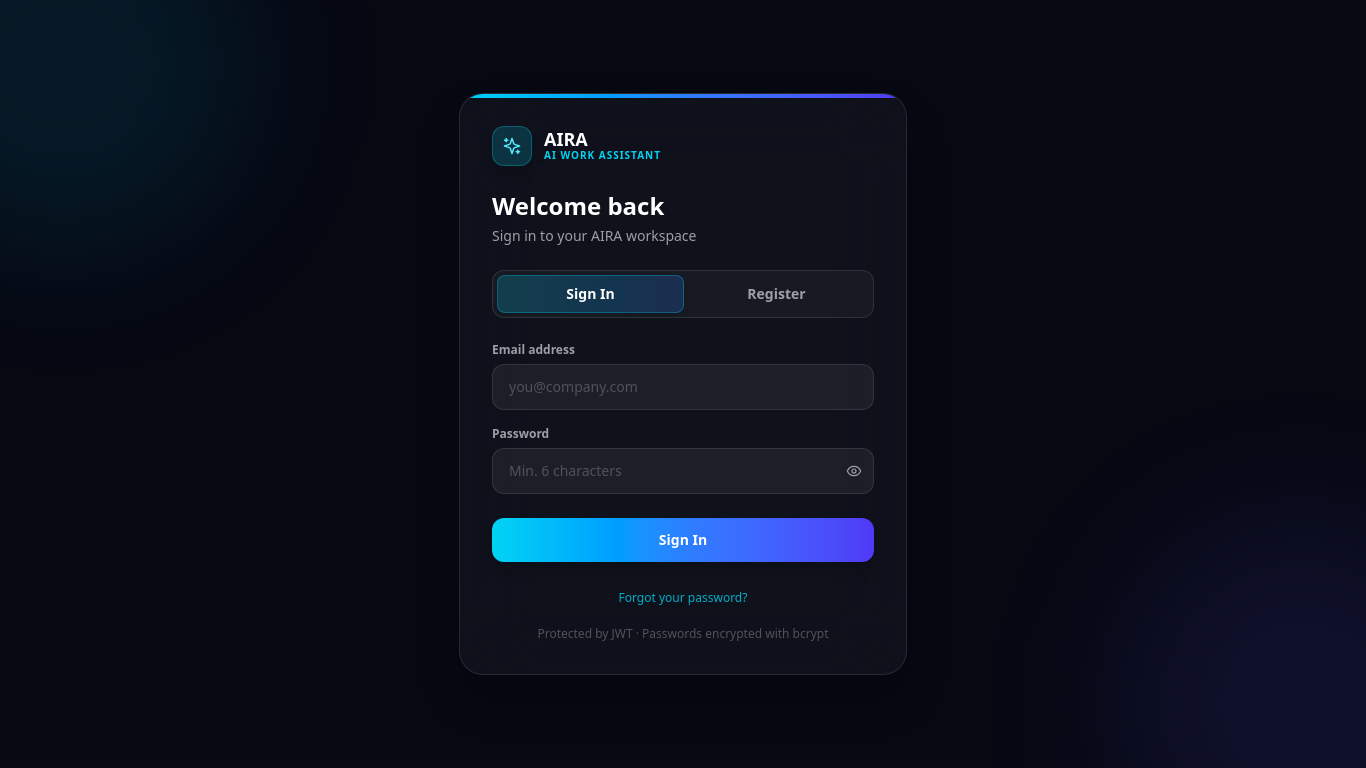
Test: Phase 6C — Email Verification Frontend Suite › LoginPage — Post Registration › displays 'Check your inbox' view after registration
Note: Switch to Register tab
Click the button "Register": (776, 294) [684,275,869,313]
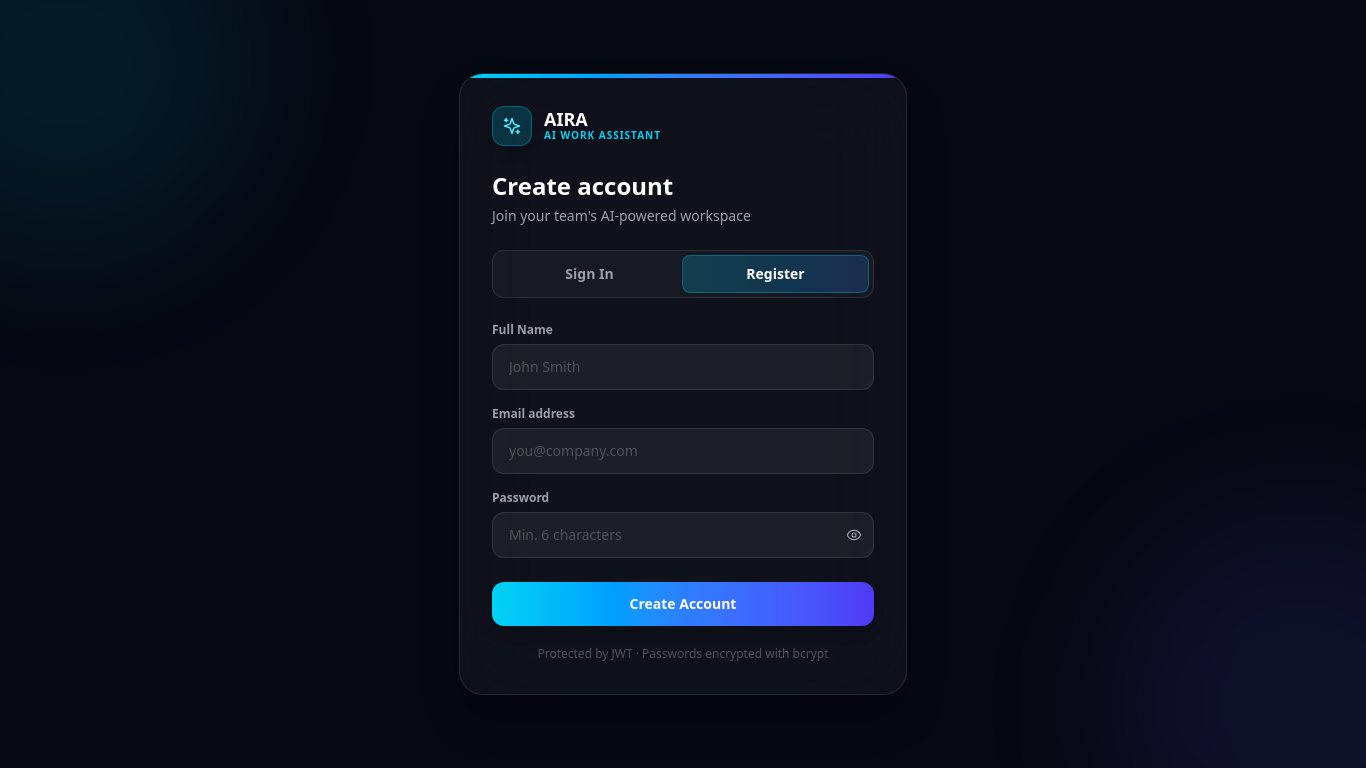
Note: Fill in details
In the field with placeholder "John Smith": (683, 367) [492,344,874,390], type "New User"
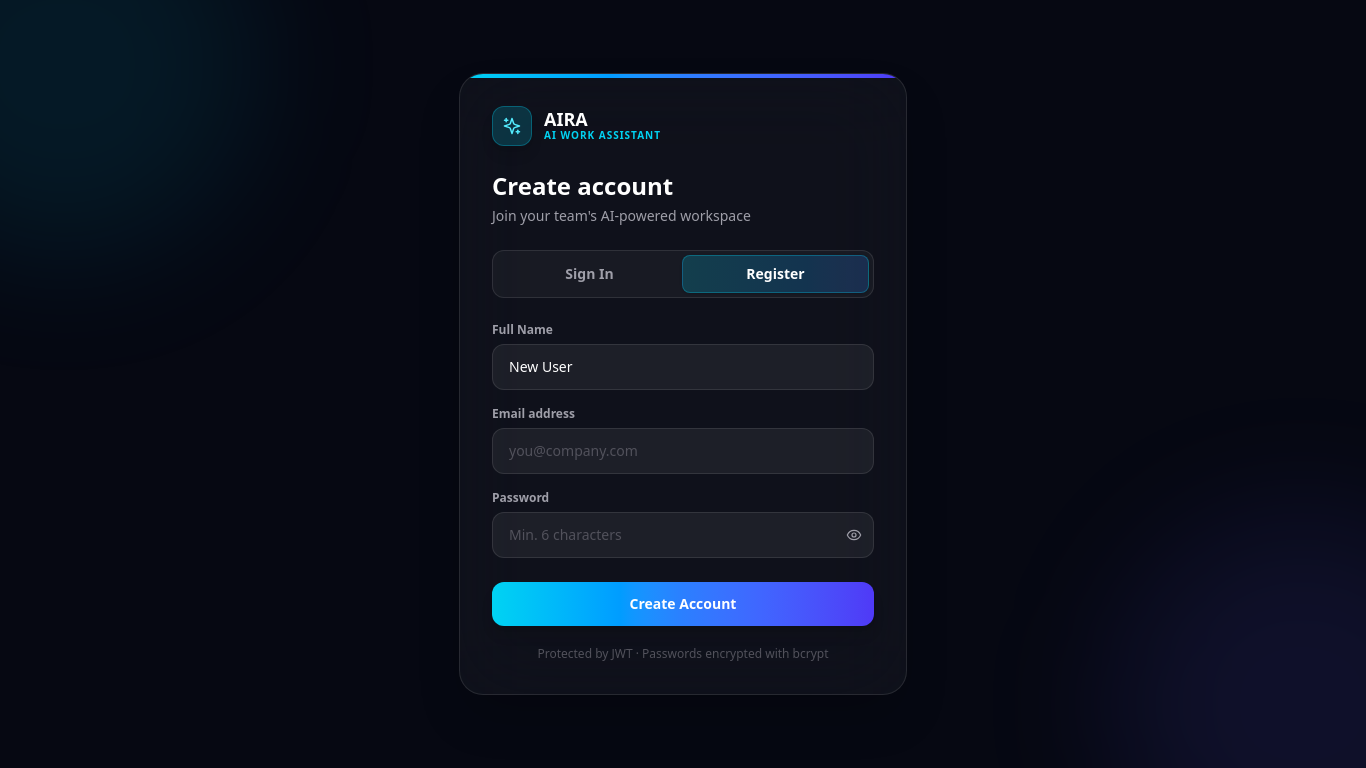
In the field with placeholder "you@company.com": (683, 451) [492,428,874,474], type "newreg@aira.io"
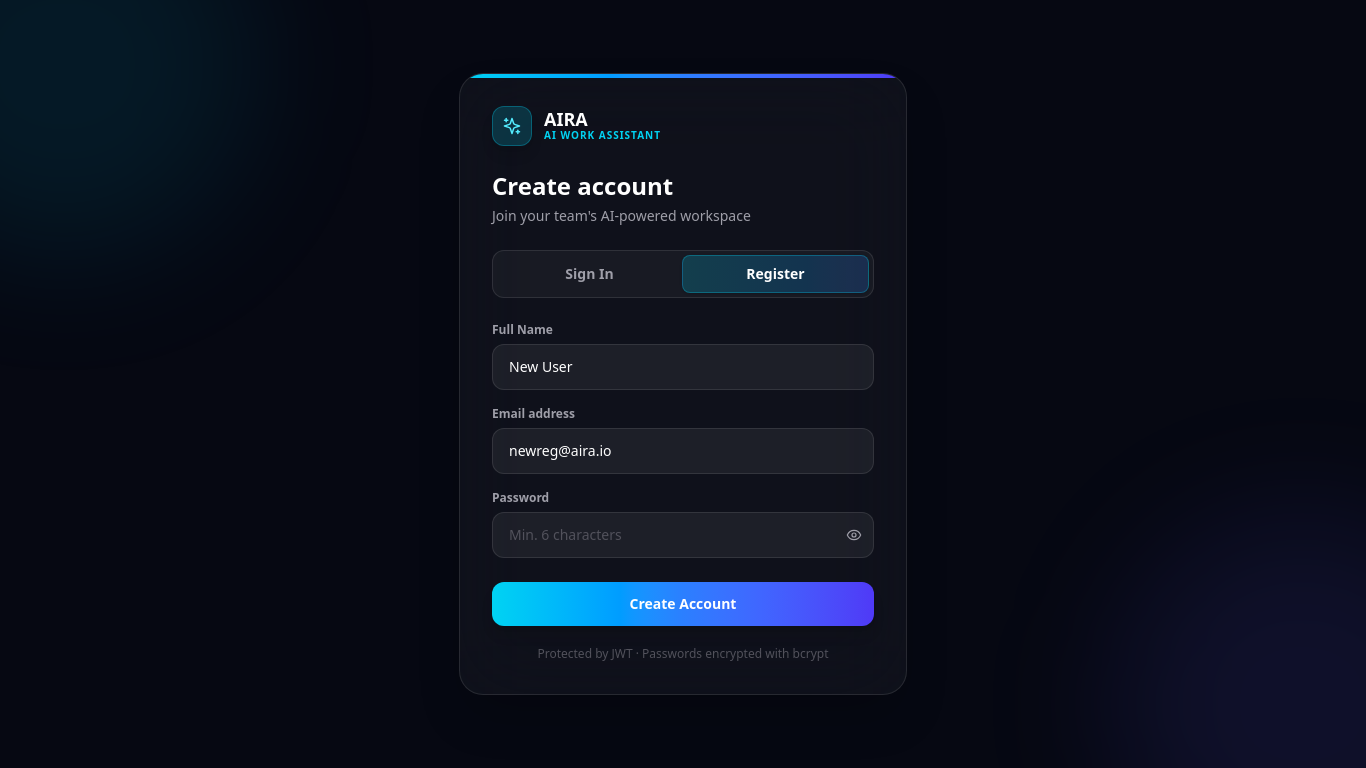
In the password field with placeholder "Min. 6 characters": (683, 535) [492,512,874,558], type "password123"
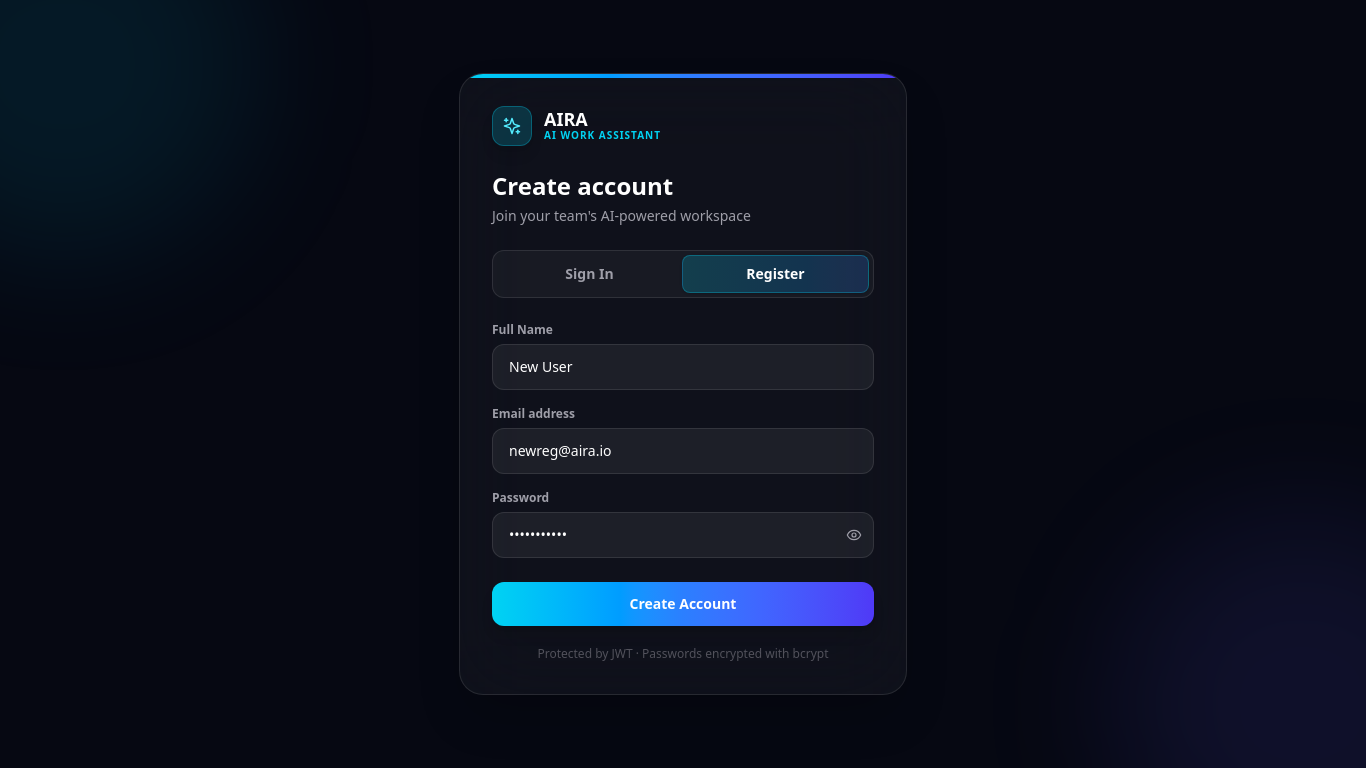
Click the button "Create Account": (683, 604) [492,582,874,626]
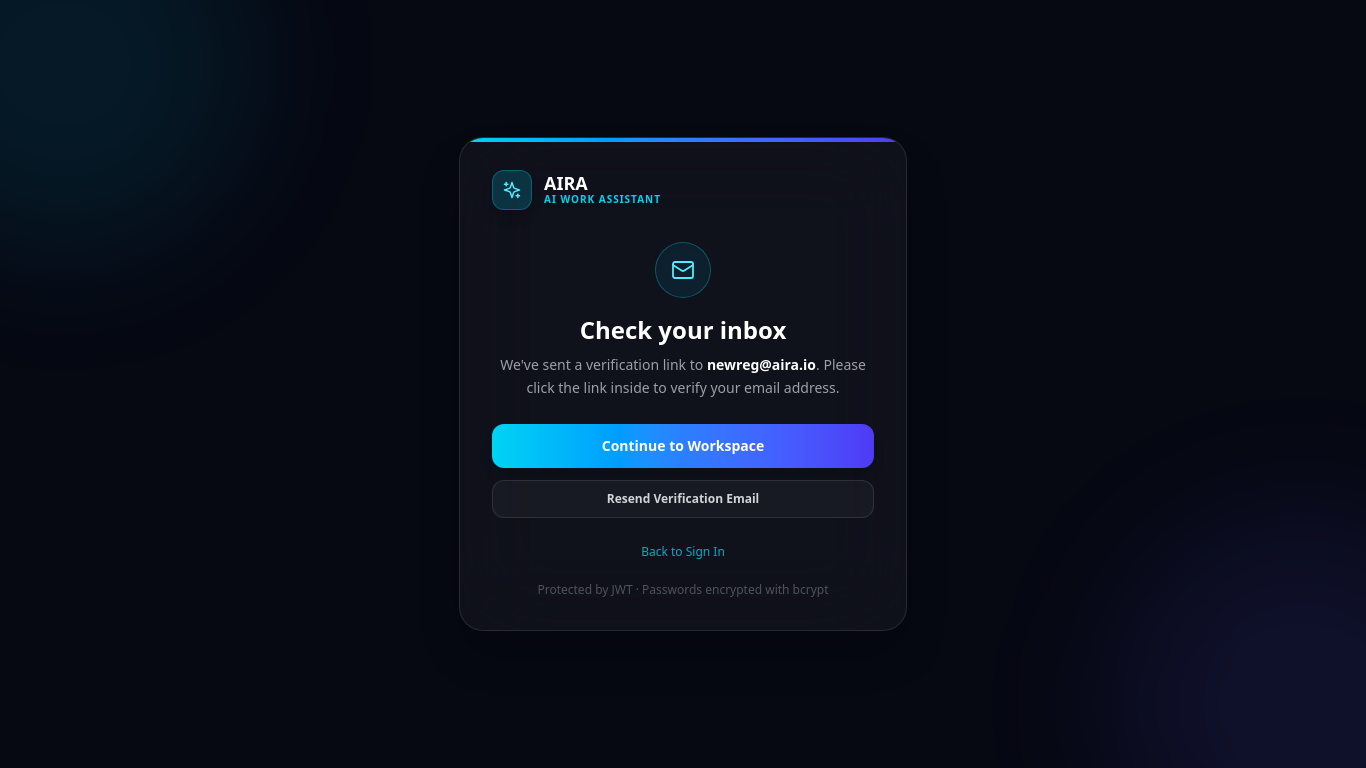
Now the element with test id "check-inbox-view" is shown, box [492,242,874,562]
Now the heading "Check your inbox" is shown, box [580,313,786,346]
Now the text "newreg@aira.io" is shown, box [707,355,816,374]
